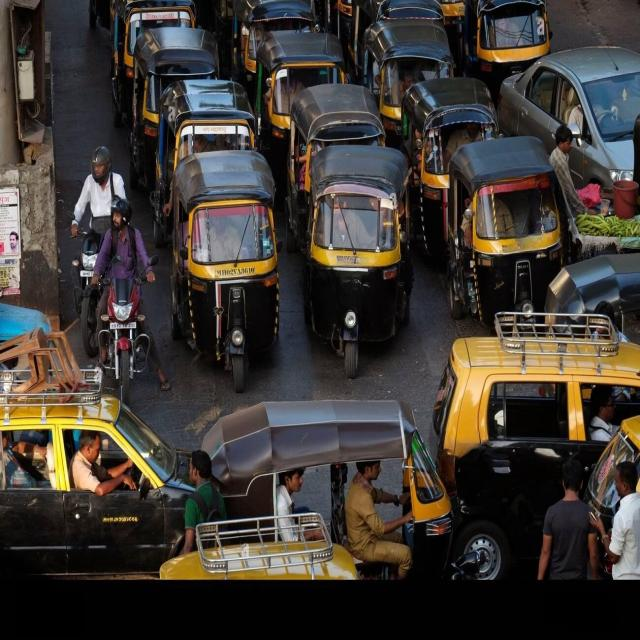autorickshaw: (202, 399, 489, 578), (171, 151, 279, 390), (305, 146, 414, 377), (446, 136, 564, 324), (401, 78, 499, 256), (151, 80, 255, 244), (286, 83, 384, 248), (255, 31, 345, 192), (131, 27, 219, 190), (362, 19, 454, 145), (109, 0, 195, 125), (464, 0, 550, 96), (231, 0, 316, 95)
car: (430, 313, 640, 578), (0, 394, 192, 576), (498, 46, 640, 195)
motorcycle: (91, 197, 171, 403), (71, 146, 125, 357)
